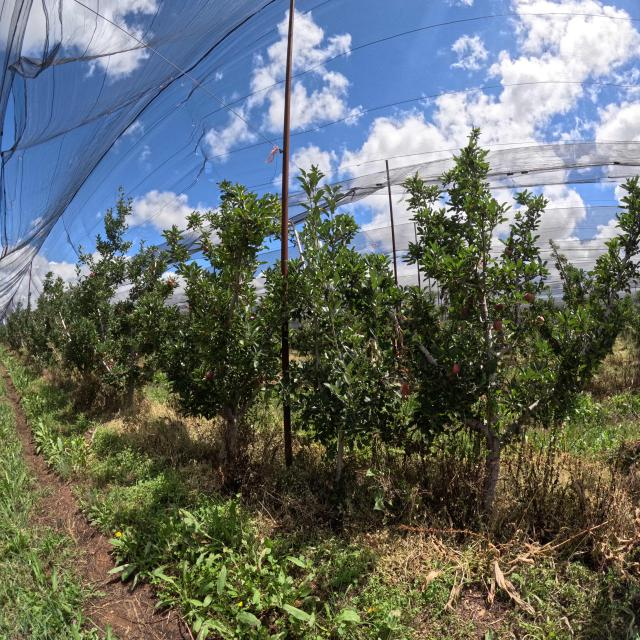-FireBlight-: (384, 314, 413, 380), (399, 383, 409, 402)
